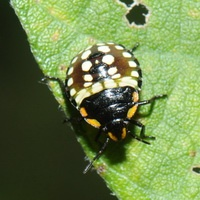insect: (43, 42, 166, 172)
